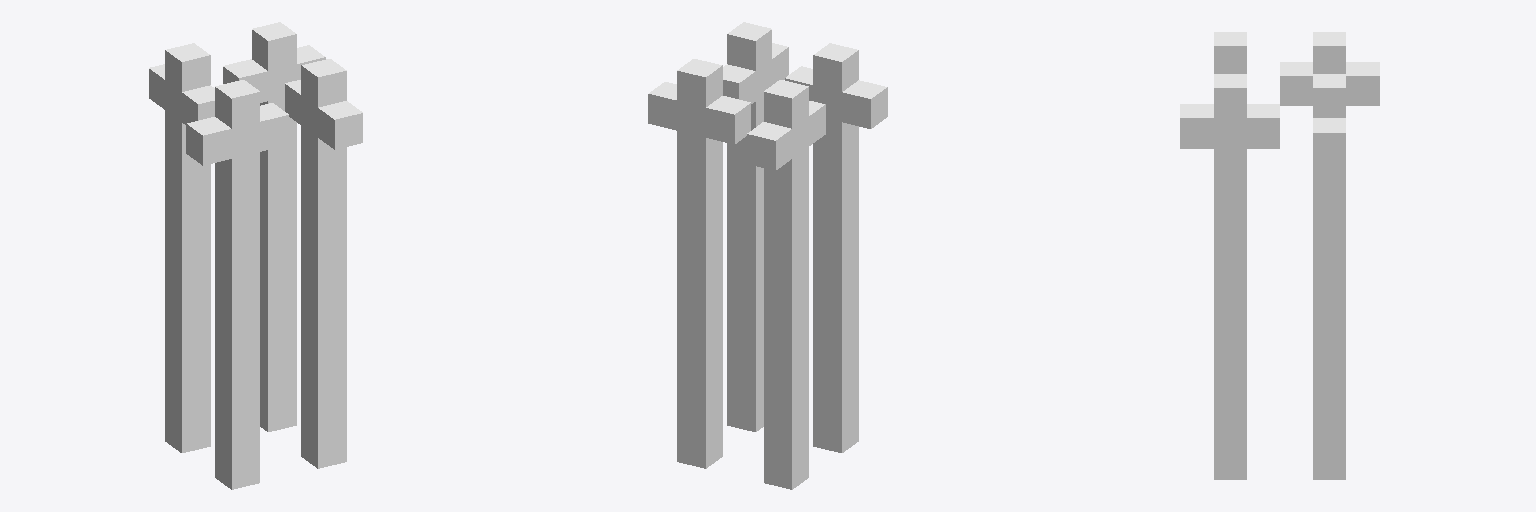
Rendered from spikes.obj.
3 views of the same model, side by side, from view 1: azimuth 30°, elevation 25°; view 2: azimuth 150°, elevation 25°; view 3: azimuth 270°, elevation 25° (orthographic).
Visible parts, largest first — view 1: object 1; view 2: object 1; view 3: object 1.
Boxes of the visible parts, x1=… form: object 1: x1=149, y1=22, x2=362, y2=489; object 1: x1=648, y1=22, x2=887, y2=489; object 1: x1=1180, y1=32, x2=1379, y2=479.
Bounding box in the file's own units: 0.6 × 1.3 × 0.6.